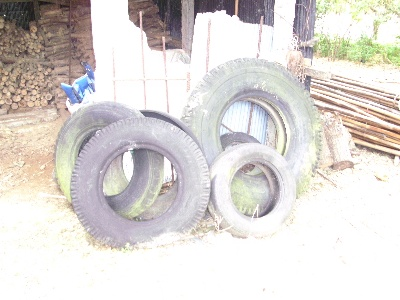tire: (181, 57, 323, 199), (70, 116, 212, 248), (53, 98, 163, 222), (210, 142, 299, 240)
